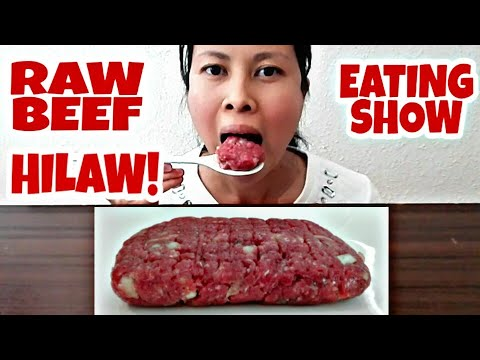ground_beef: (135, 210, 392, 293), (210, 137, 267, 169)
